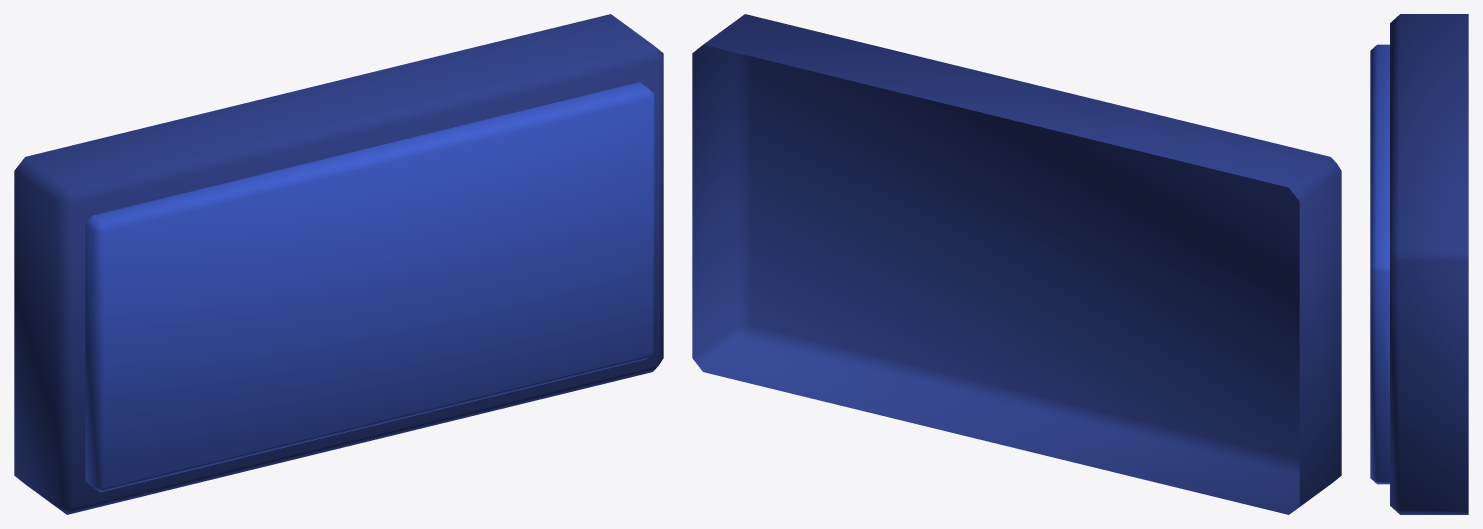
The model's file is ElectricBox_2_B_2.fbx.
3 views of the same model, side by side, from view 1: azimuth 30°, elevation 25°; view 2: azimuth 150°, elevation 25°; view 3: azimuth 270°, elevation 25° (orthographic). The views are drawn at different scales.
Parts seen in each view (by area): view 1: ElectricBox_2_B_2; view 2: ElectricBox_2_B_2; view 3: ElectricBox_2_B_2.
Part boxes in pixels (x1=…): ElectricBox_2_B_2: x1=14, y1=14, x2=663, y2=514; ElectricBox_2_B_2: x1=692, y1=14, x2=1341, y2=514; ElectricBox_2_B_2: x1=1370, y1=14, x2=1468, y2=514.
Size of the model in its own units: 88.15 by 45.42 by 15.17.
